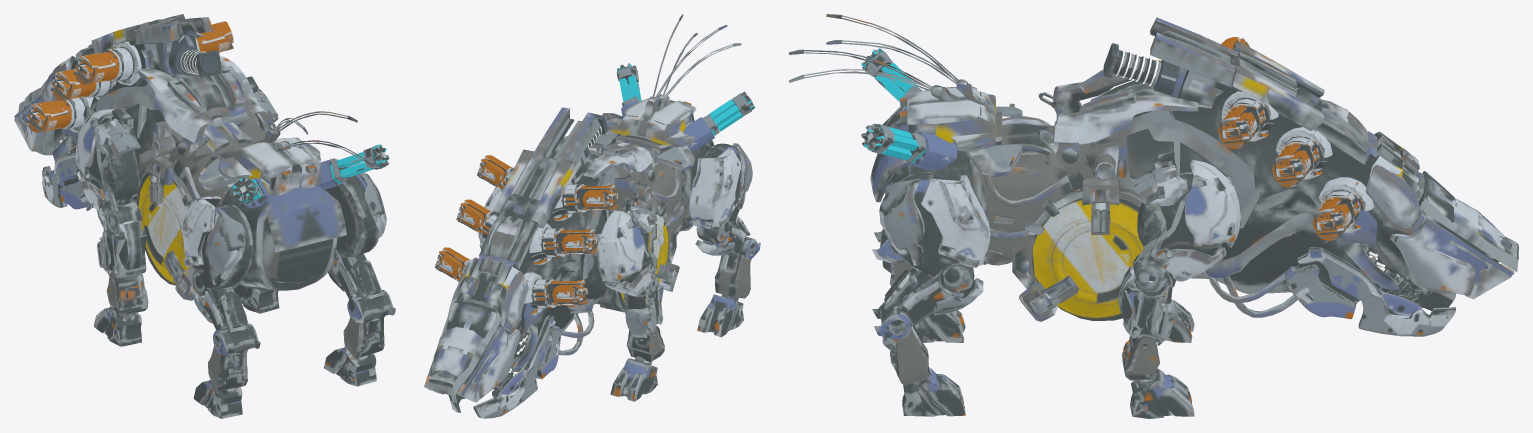
The model's file is behemoth.glb.
3 views of the same model, side by side, from view 1: azimuth 30°, elevation 25°; view 2: azimuth 150°, elevation 25°; view 3: azimuth 270°, elevation 25° (orthographic). The views are drawn at different scales.
Visible parts, largest first — view 1: Cylinder.012_0; view 2: Cylinder.012_0; view 3: Cylinder.012_0.
Part boxes in pixels (x1,y1,x2,y2): Cylinder.012_0: (14,14,395,418); Cylinder.012_0: (424,14,760,418); Cylinder.012_0: (789,14,1518,418).
Bounding box in the file's own units: 3.28 × 5.32 × 10.13.
Materials: 1 (1 with a texture image).
